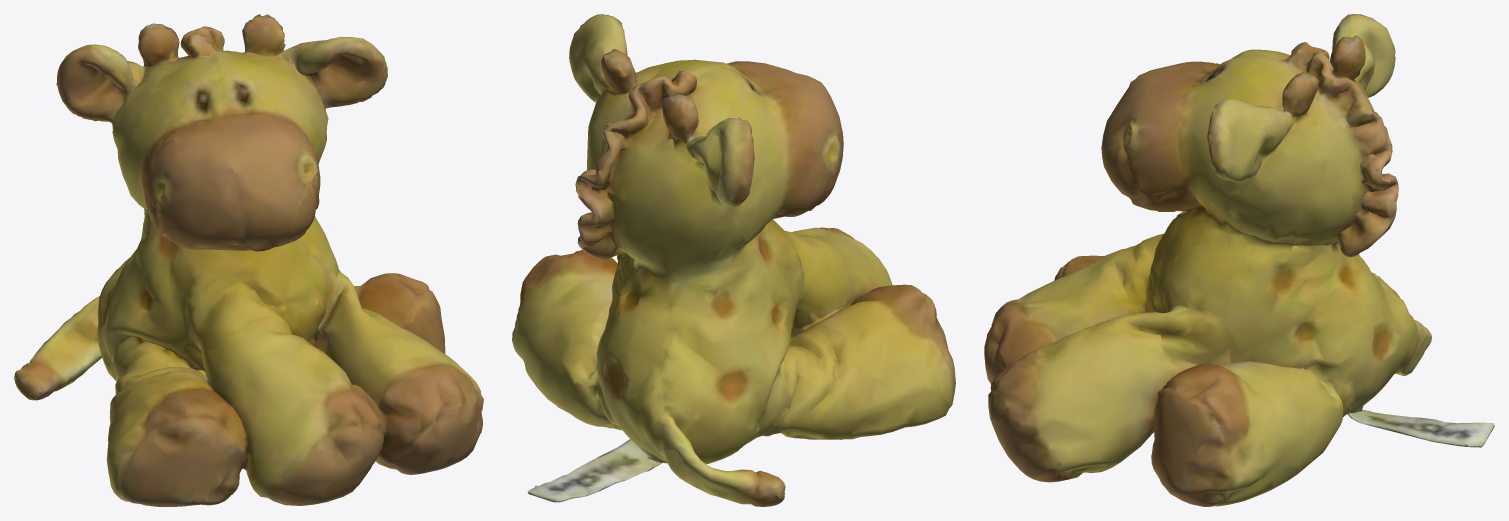
The model's file is Ortho_Forward_Facing-high.glb.
The picture shows the model from 3 angles, left to right: view 1: azimuth 30°, elevation 25°; view 2: azimuth 150°, elevation 25°; view 3: azimuth 270°, elevation 25°; orthographic projection. The views are drawn at different scales.
Visible parts, largest first — view 1: Ortho_Forward_Facing; view 2: Ortho_Forward_Facing; view 3: Ortho_Forward_Facing.
Boxes of the visible parts, x1,y1,x2,y2 form: Ortho_Forward_Facing: (14,14,483,506); Ortho_Forward_Facing: (512,14,955,506); Ortho_Forward_Facing: (984,14,1494,506).
Bounding box in the file's own units: 0.2025 × 0.1903 × 0.2347.
Materials: 1 (1 with a texture image).
